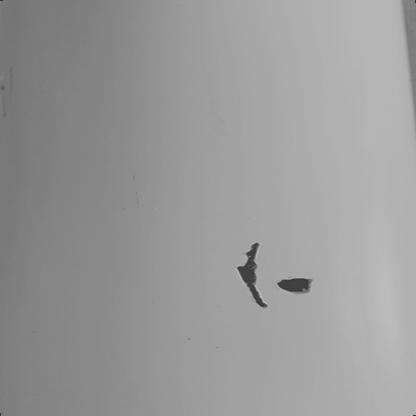kongdong: (236, 240, 270, 310), (277, 276, 313, 296)
